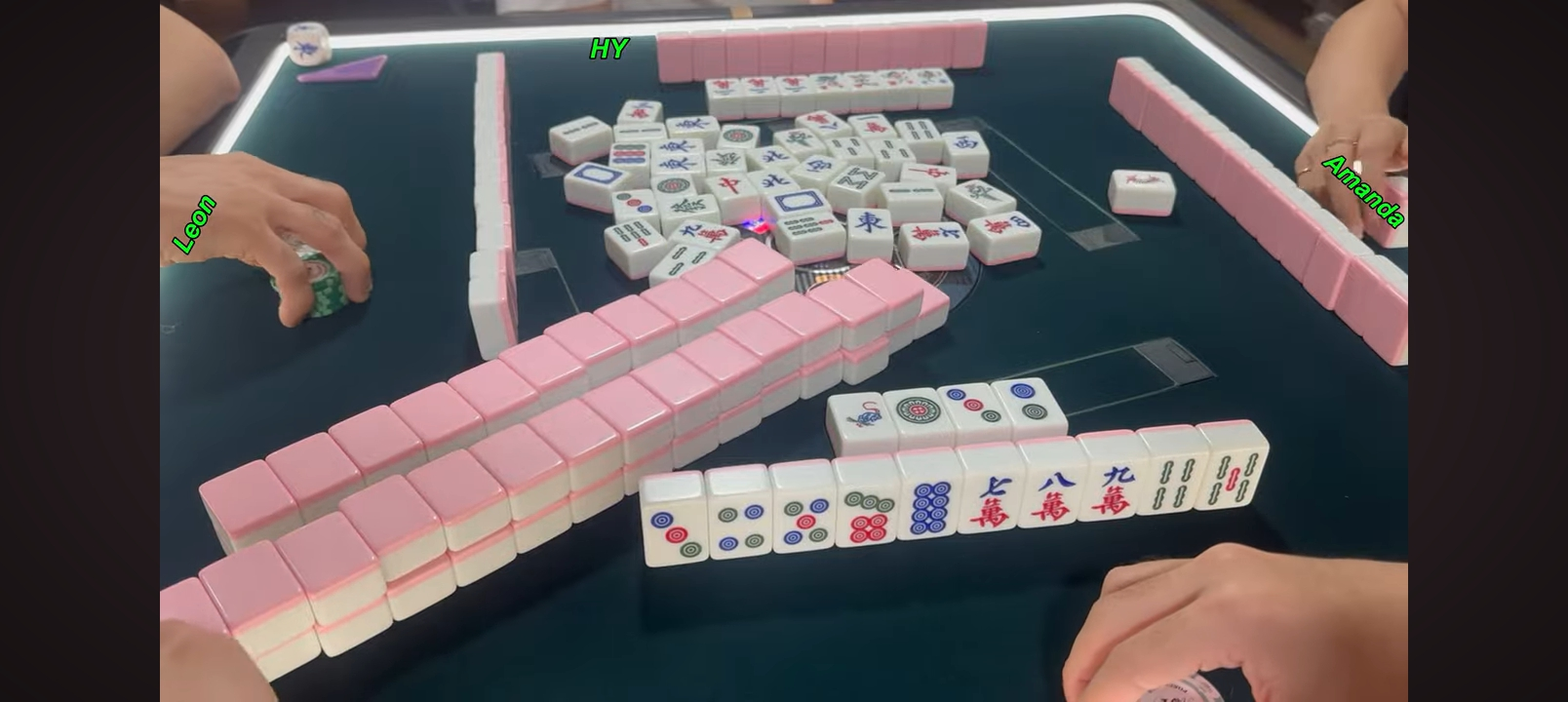TILE: (640, 500, 708, 566), (771, 487, 837, 551), (707, 493, 770, 558), (963, 471, 1026, 533), (839, 486, 904, 546), (902, 476, 963, 536), (1204, 450, 1266, 509), (1026, 467, 1087, 526), (1087, 461, 1149, 518), (1003, 378, 1072, 426), (1149, 456, 1206, 514), (827, 391, 894, 440), (884, 387, 947, 436), (941, 382, 1005, 430)
